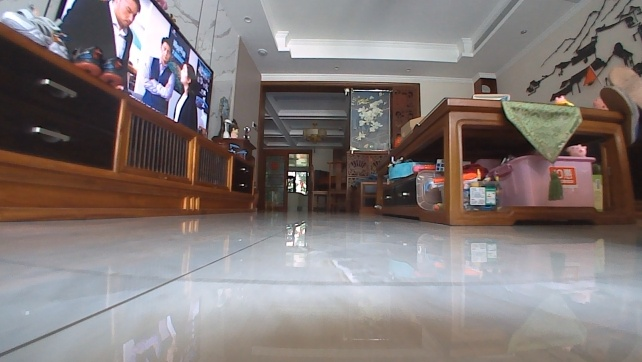TV_stand: (0, 22, 257, 223)
shoe: (596, 83, 641, 146)
sofa1: (349, 173, 380, 215)
tea_table: (369, 94, 641, 229)
